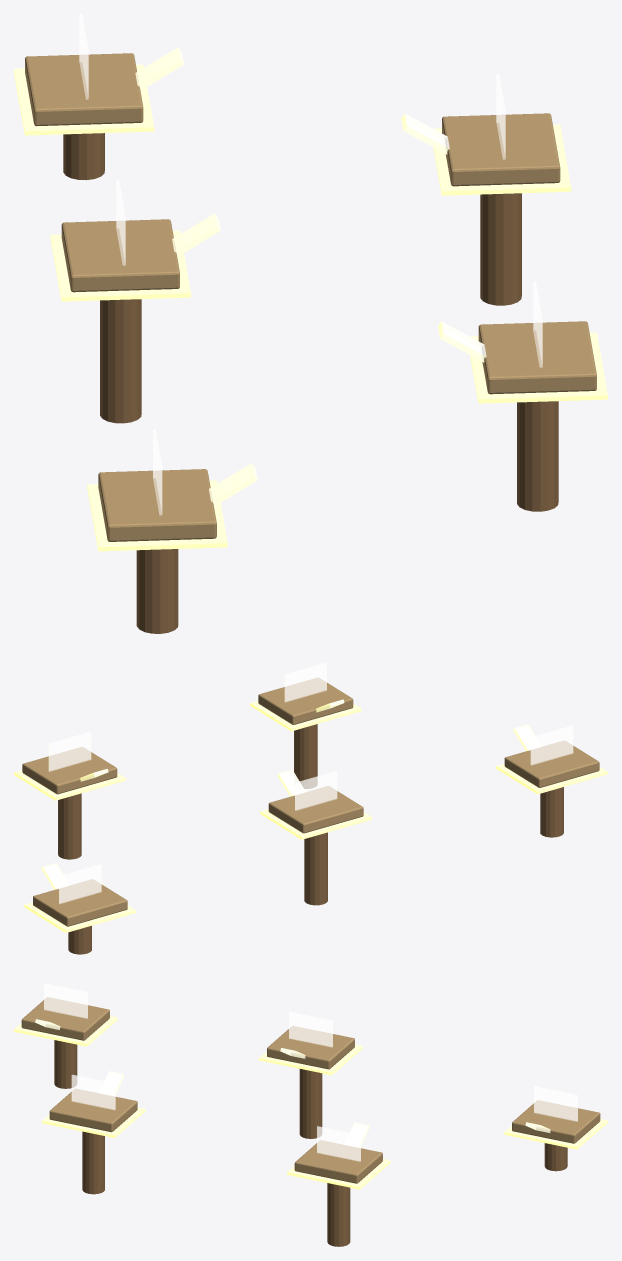
The model's file is experience.glb.
3 views of the same model, one above another, from view 1: azimuth 30°, elevation 25°; view 2: azimuth 150°, elevation 25°; view 3: azimuth 270°, elevation 25° (orthographic). The views are drawn at different scales.
Parts seen in each view (by area): view 1: experience_recro_slab, experience_skylar_slab, experience_metricstream_slab, experience_uwindsor_slab, experience_launchventures_slab, experience_recro_pillar, experience_uwindsor_pillar, experience_launchventures_pillar, experience_metricstream_pillar, experience_skylar_rim, experience_recro_rim, experience_metricstream_rim (+8 smaller); view 2: experience_metricstream_slab, experience_recro_slab, experience_skylar_slab, experience_launchventures_slab, experience_uwindsor_slab, experience_recro_pillar, experience_uwindsor_pillar, experience_launchventures_pillar, experience_metricstream_holo, experience_uwindsor_holo, experience_launchventures_holo, experience_recro_holo (+11 smaller); view 3: experience_launchventures_slab, experience_uwindsor_slab, experience_skylar_slab, experience_metricstream_slab, experience_recro_slab, experience_recro_pillar, experience_uwindsor_pillar, experience_launchventures_pillar, experience_launchventures_holo, experience_metricstream_holo, experience_skylar_holo, experience_uwindsor_holo (+10 smaller).
Boxes of the visible parts, box(x1,y1,x2,y2) form: experience_recro_slab: box(61, 219, 179, 292); experience_skylar_slab: box(25, 53, 143, 126); experience_metricstream_slab: box(98, 469, 216, 541); experience_uwindsor_slab: box(442, 113, 560, 186); experience_launchventures_slab: box(478, 321, 596, 394); experience_recro_pillar: box(100, 299, 141, 423); experience_uwindsor_pillar: box(480, 193, 521, 305); experience_launchventures_pillar: box(517, 401, 558, 511); experience_metricstream_pillar: box(136, 549, 178, 633); experience_skylar_rim: box(14, 64, 154, 135); experience_recro_rim: box(50, 230, 190, 301); experience_metricstream_rim: box(87, 480, 227, 551); experience_metricstream_slab: box(504, 740, 599, 787); experience_recro_slab: box(268, 786, 363, 833); experience_skylar_slab: box(33, 879, 127, 926); experience_launchventures_slab: box(258, 677, 353, 724); experience_uwindsor_slab: box(22, 747, 117, 794); experience_recro_pillar: box(304, 832, 327, 905); experience_uwindsor_pillar: box(58, 793, 81, 859); experience_launchventures_pillar: box(294, 724, 317, 788); experience_metricstream_holo: box(530, 725, 573, 765); experience_uwindsor_holo: box(48, 732, 91, 771); experience_launchventures_holo: box(284, 662, 326, 702); experience_recro_holo: box(295, 771, 337, 810); experience_launchventures_slab: box(49, 1089, 137, 1132); experience_uwindsor_slab: box(294, 1140, 382, 1183); experience_skylar_slab: box(512, 1100, 600, 1143); experience_metricstream_slab: box(21, 997, 109, 1040); experience_recro_slab: box(267, 1026, 354, 1069); experience_recro_pillar: box(299, 1069, 322, 1138); experience_uwindsor_pillar: box(327, 1183, 350, 1246); experience_launchventures_pillar: box(82, 1131, 104, 1194); experience_launchventures_holo: box(71, 1074, 115, 1110); experience_metricstream_holo: box(44, 983, 87, 1018); experience_skylar_holo: box(534, 1086, 577, 1121); experience_uwindsor_holo: box(317, 1126, 360, 1161).
Size of the model in its own units: 18.19 by 5 by 22.86.
